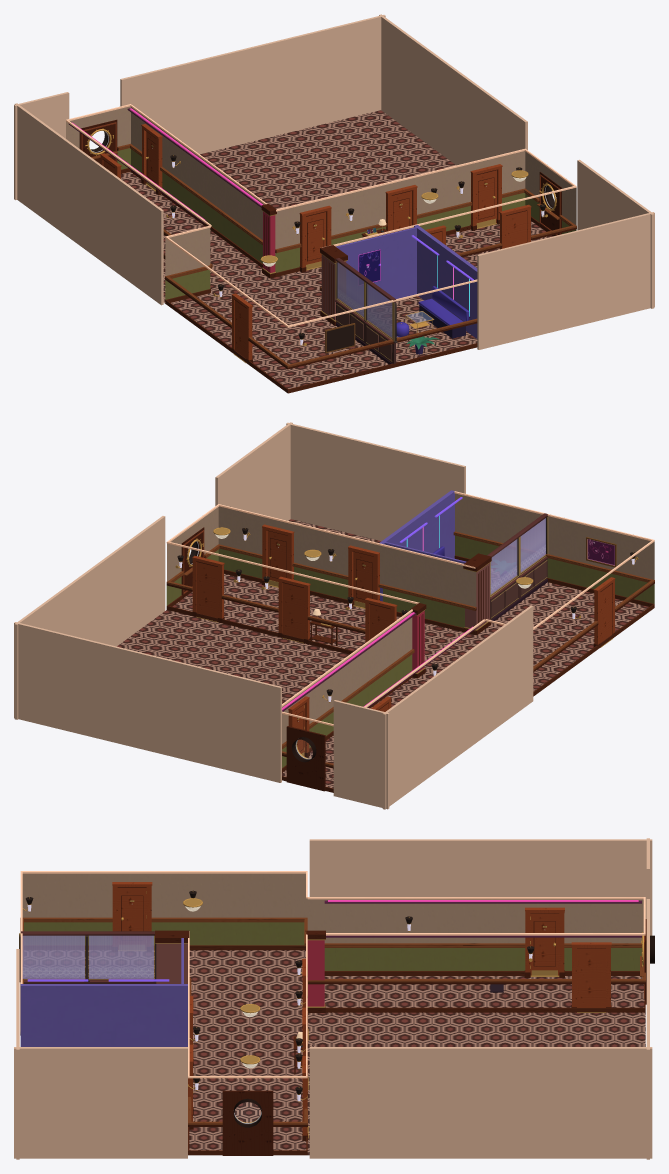
The model's file is goodboat-corridor-2.lod1.glb.
3 renders of one model, top to bottom at view 1: azimuth 30°, elevation 25°; view 2: azimuth 150°, elevation 25°; view 3: azimuth 270°, elevation 25°, orthographic. The views are drawn at different scales.
Parts seen in each view (by area): view 1: void-cap, object 1, object 4, object 9, object 47, object 3, object 8, object 5, object 6, object 7, object 22, object 10 (+12 smaller); view 2: void-cap, object 1, object 4, object 9, object 3, object 8, object 5, object 7, object 47, object 6, object 22, object 10 (+8 smaller); view 3: void-cap, object 1, object 4, object 47, object 3, object 9, object 7, object 5, object 8, object 22, object 45, object 46 (+9 smaller).
Boxes of the visible parts, left/top/right/bottom form: void-cap: left=14, top=14, right=654, bottom=349; object 1: left=121, top=110, right=552, bottom=388; object 4: left=66, top=106, right=576, bottom=275; object 9: left=100, top=124, right=530, bottom=360; object 47: left=336, top=225, right=477, bottom=338; object 3: left=117, top=148, right=576, bottom=299; object 8: left=66, top=104, right=576, bottom=327; object 5: left=117, top=143, right=576, bottom=367; object 6: left=102, top=130, right=576, bottom=369; object 7: left=121, top=168, right=539, bottom=393; object 22: left=79, top=119, right=561, bottom=236; object 10: left=100, top=124, right=531, bottom=309; void-cap: left=14, top=422, right=533, bottom=809; object 1: left=117, top=519, right=648, bottom=788; object 4: left=167, top=493, right=654, bottom=743; object 9: left=192, top=524, right=614, bottom=756; object 3: left=166, top=535, right=654, bottom=767; object 8: left=166, top=491, right=654, bottom=726; object 5: left=166, top=531, right=654, bottom=766; object 7: left=166, top=555, right=654, bottom=792; object 47: left=379, top=490, right=466, bottom=601; object 6: left=166, top=530, right=654, bottom=768; object 22: left=181, top=527, right=325, bottom=791; object 10: left=192, top=525, right=615, bottom=712; void-cap: left=14, top=838, right=652, bottom=1159; object 1: left=24, top=950, right=645, bottom=1155; object 4: left=22, top=873, right=643, bottom=943; object 47: left=20, top=938, right=187, bottom=1046; object 3: left=24, top=922, right=641, bottom=970; object 9: left=112, top=882, right=610, bottom=1135; object 7: left=24, top=945, right=645, bottom=1155; object 5: left=20, top=917, right=645, bottom=1124; object 8: left=20, top=871, right=645, bottom=1078; object 22: left=222, top=919, right=646, bottom=1155; object 45: left=89, top=935, right=153, bottom=978; object 46: left=22, top=935, right=84, bottom=978.
Bounding box in the file's own units: 14.88 × 3.6 × 18.98.
Materials: 73 (31 with a texture image).
